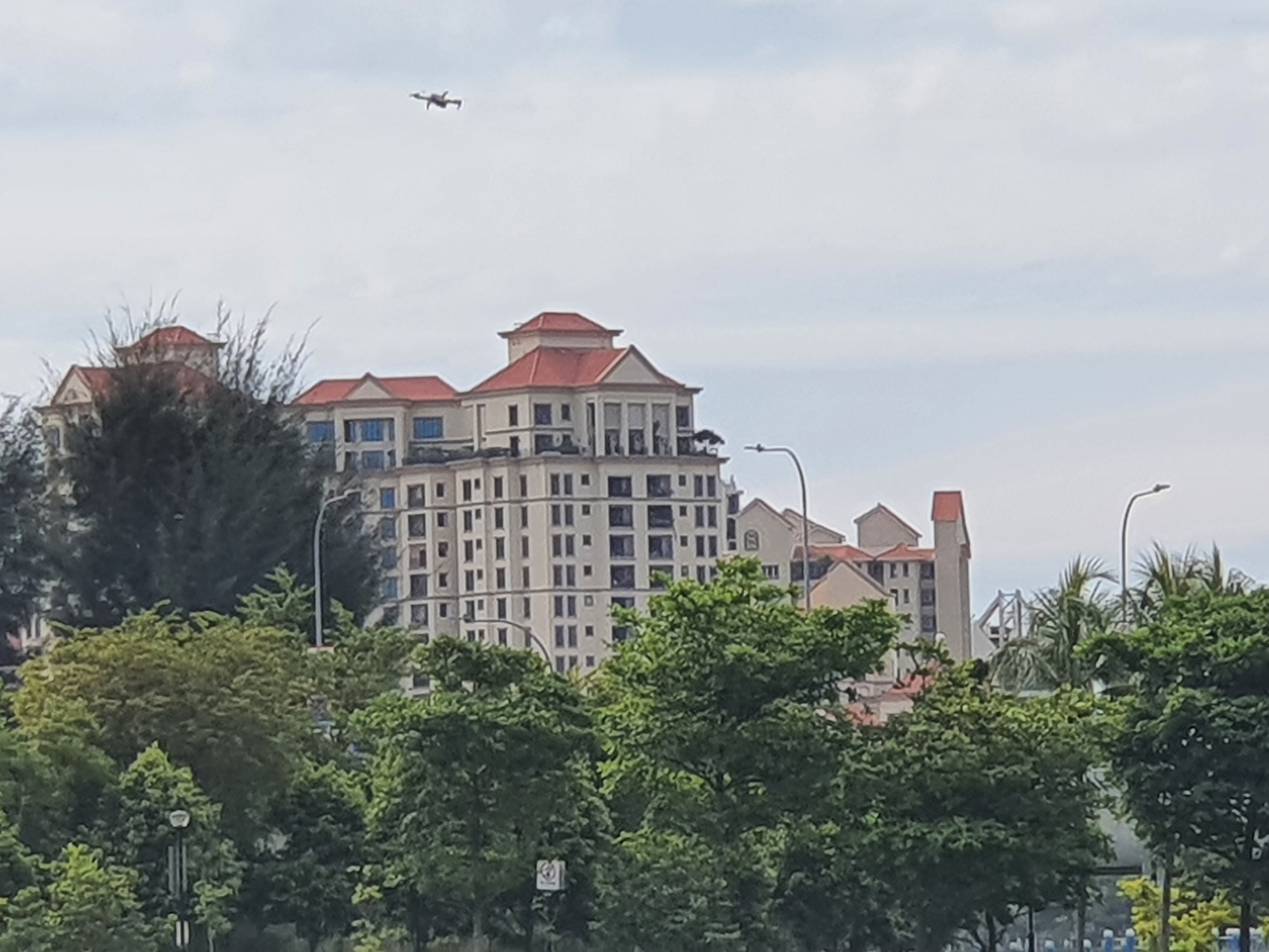drone_other: (405, 86, 464, 112)
